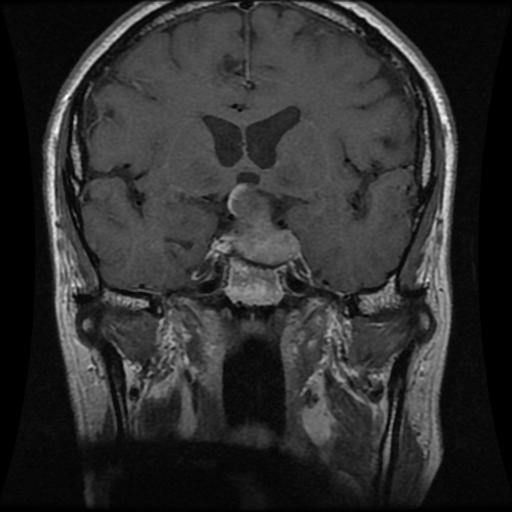Pituirity_tumour: (228, 185, 298, 262)
